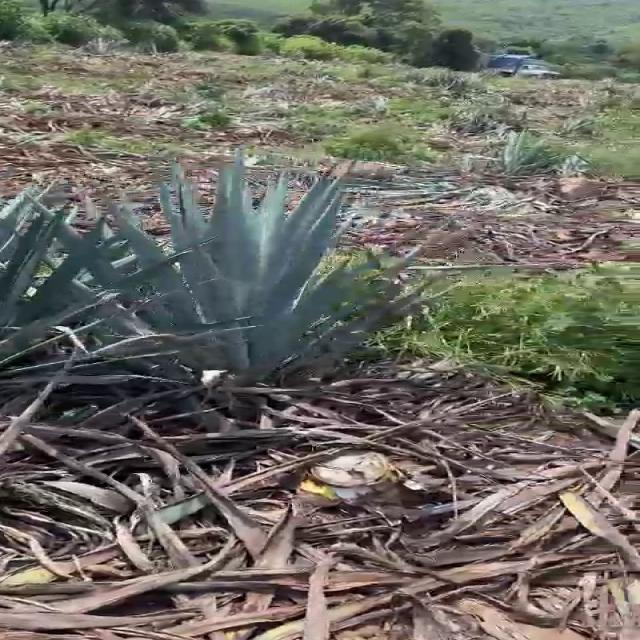agave: (100, 161, 378, 418)
